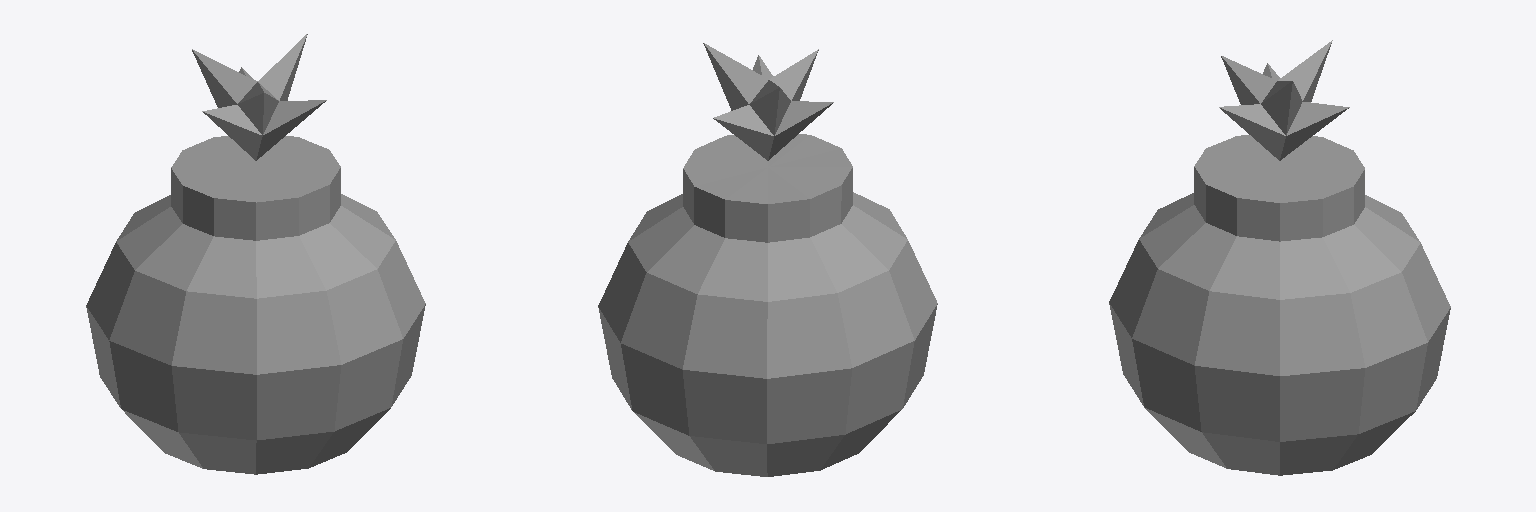
Rendered from MegaBomb.obj.
The picture shows the model from 3 angles: view 1: azimuth 30°, elevation 25°; view 2: azimuth 150°, elevation 25°; view 3: azimuth 270°, elevation 25°; orthographic projection.
Visible parts, largest first — view 1: Mesh.562_DrawCall_274; view 2: Mesh.562_DrawCall_274; view 3: Mesh.562_DrawCall_274.
Part boxes in pixels (x1,y1,x2,y2): Mesh.562_DrawCall_274: (86,34,425,474); Mesh.562_DrawCall_274: (598,43,937,476); Mesh.562_DrawCall_274: (1109,40,1450,475).
Size of the model in its own units: 10.23 by 13.59 by 10.32.